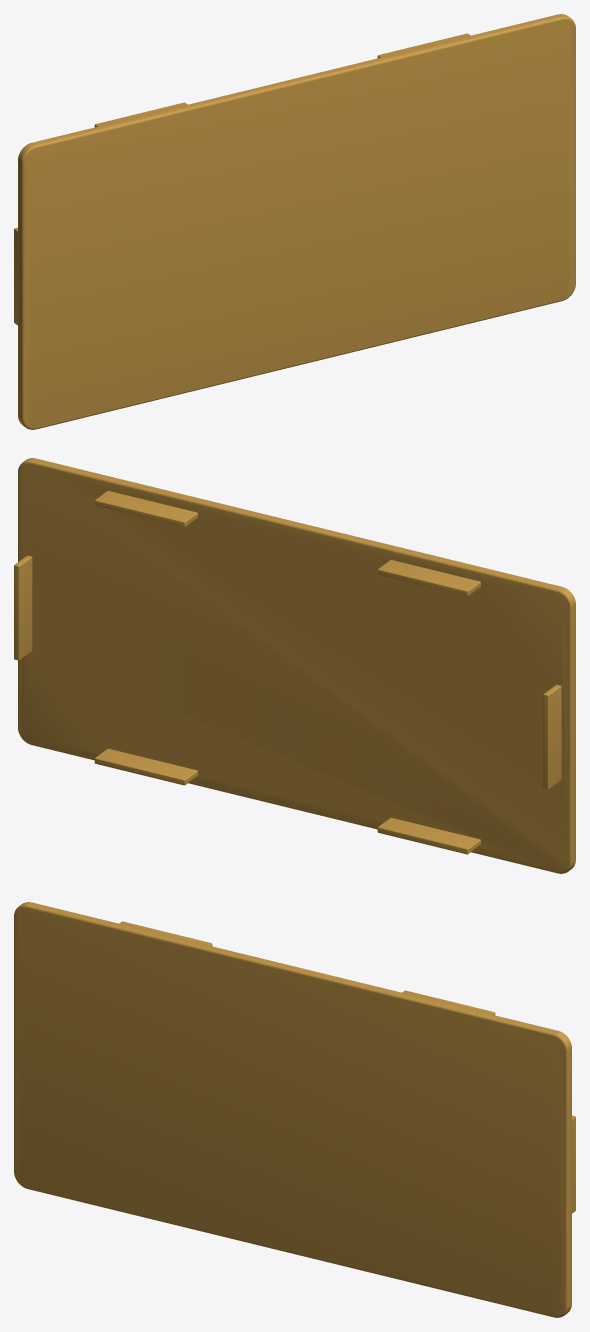
Rendered from MCLR.glb.
3 views of the same model, one above another, from view 1: azimuth 30°, elevation 25°; view 2: azimuth 150°, elevation 25°; view 3: azimuth 330°, elevation 25° (orthographic).
Visible parts, largest first — view 1: MCLR_Gold; view 2: MCLR_Gold; view 3: MCLR_Gold.
Boxes of the visible parts, x1,y1,x2,y2 form: MCLR_Gold: (14, 14, 575, 429); MCLR_Gold: (14, 458, 575, 873); MCLR_Gold: (14, 902, 575, 1317).
Bounding box in the file's own units: 196 × 96 × 11.4.
